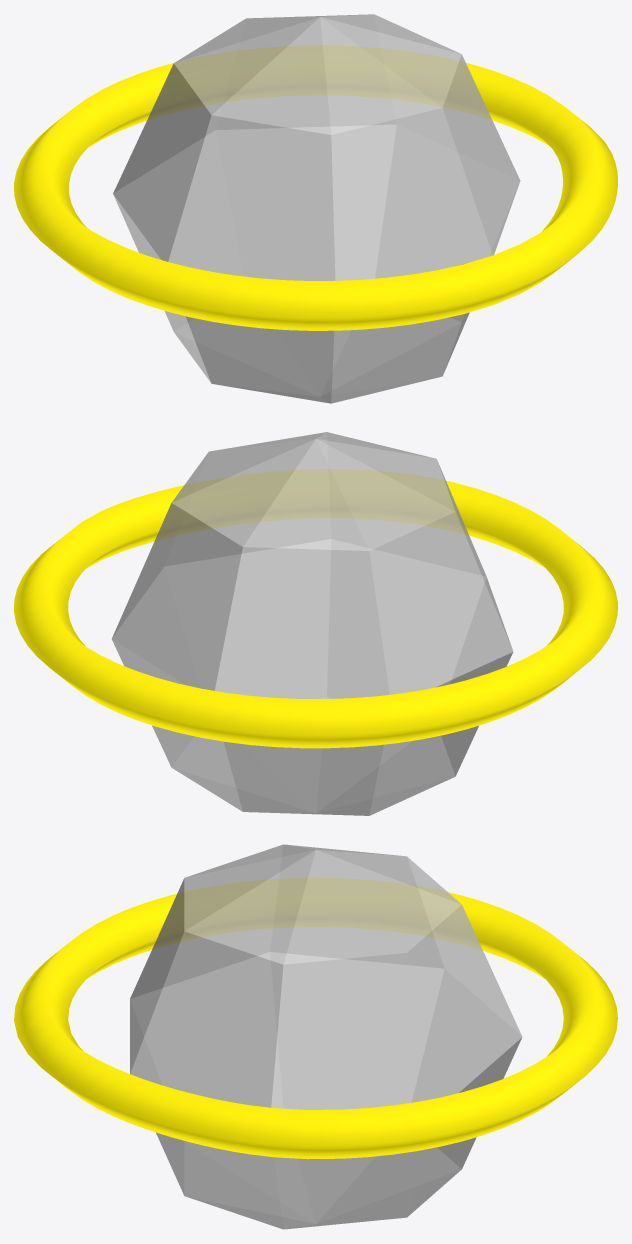
File: LightBall.fbx
The picture shows the model from 3 angles, top to bottom: view 1: azimuth 30°, elevation 25°; view 2: azimuth 150°, elevation 25°; view 3: azimuth 270°, elevation 25°; orthographic projection.
Visible parts, largest first — view 1: Sphere, BezierCircle; view 2: Sphere, BezierCircle; view 3: Sphere, BezierCircle.
Part boxes in pixels (x1=…): Sphere: x1=113, y1=14, x2=520, y2=403; BezierCircle: x1=14, y1=46, x2=617, y2=330; Sphere: x1=111, y1=432, x2=513, y2=815; BezierCircle: x1=14, y1=469, x2=617, y2=748; Sphere: x1=130, y1=844, x2=522, y2=1229; BezierCircle: x1=14, y1=878, x2=617, y2=1159.
Bounding box in the file's own units: 2.92 × 2 × 2.92.
